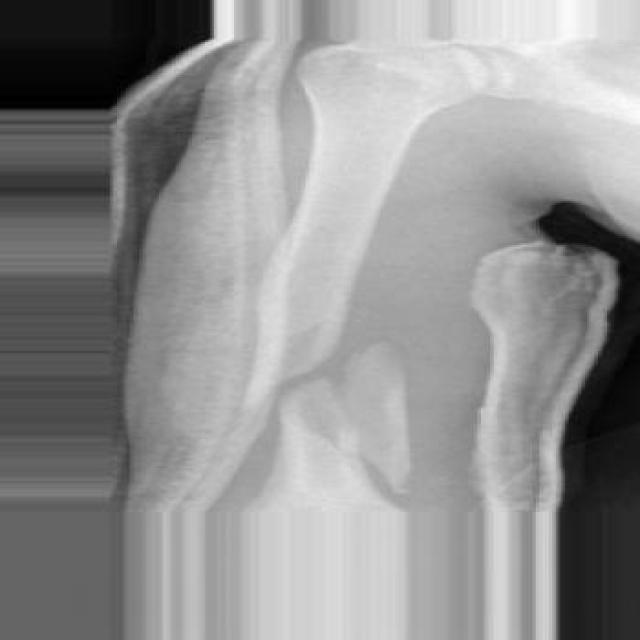Fracture: (227, 324, 421, 511)
